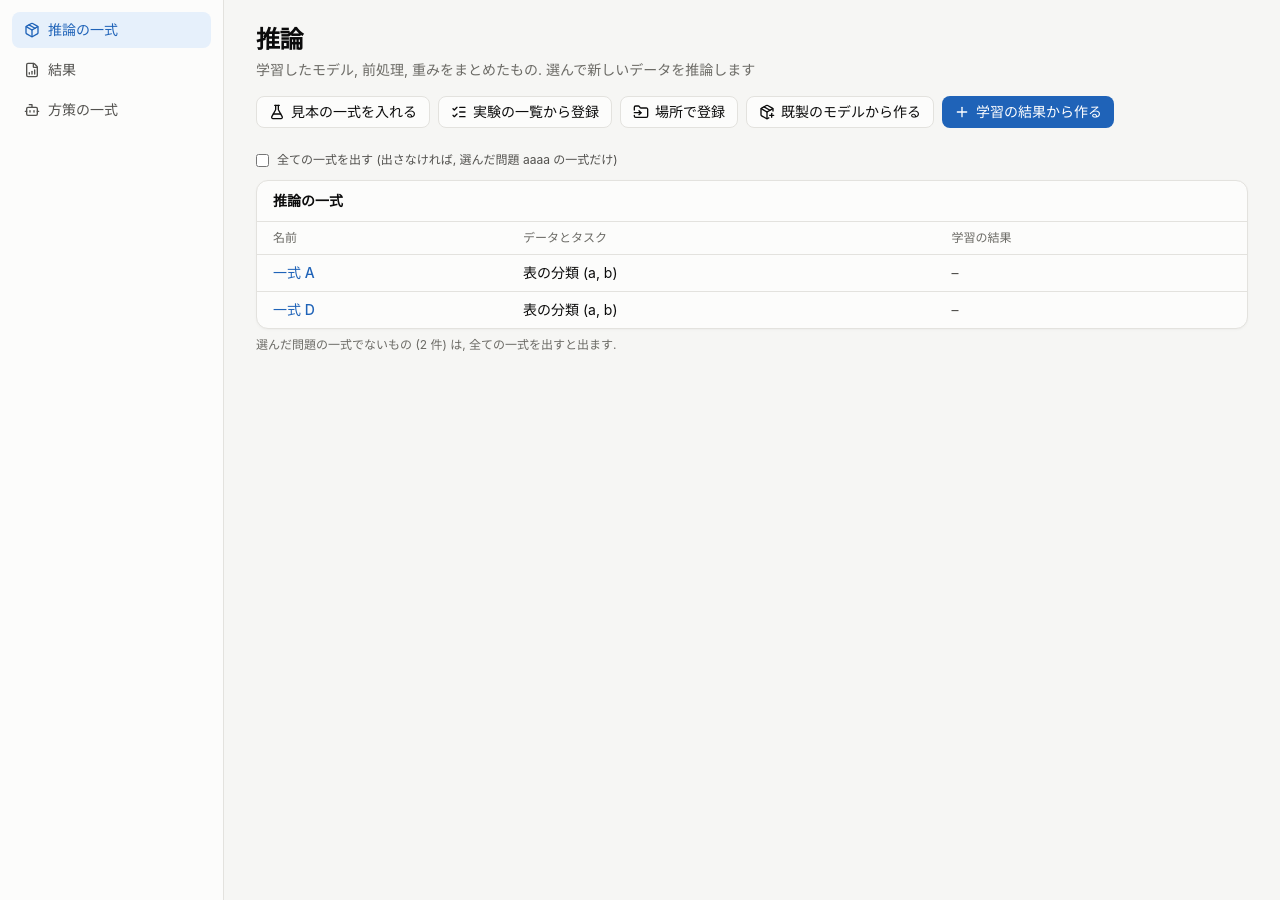
Test: StageApp › project を渡すと, 一式の一覧をその問題をつないだ一式に絞り, 外せる
Later steps or results of the test are not shown.
Expected: the link "一式 A" is shown, x1=273 y1=264 x2=315 y2=281
Expected: the link "一式 D" is shown, x1=273 y1=301 x2=315 y2=318
Click the checkbox labelled "全ての一式を出す (出さなければ, 選んだ問題 aaaa の一式だけ)" at [262, 160], box x1=256 y1=154 x2=269 y2=166
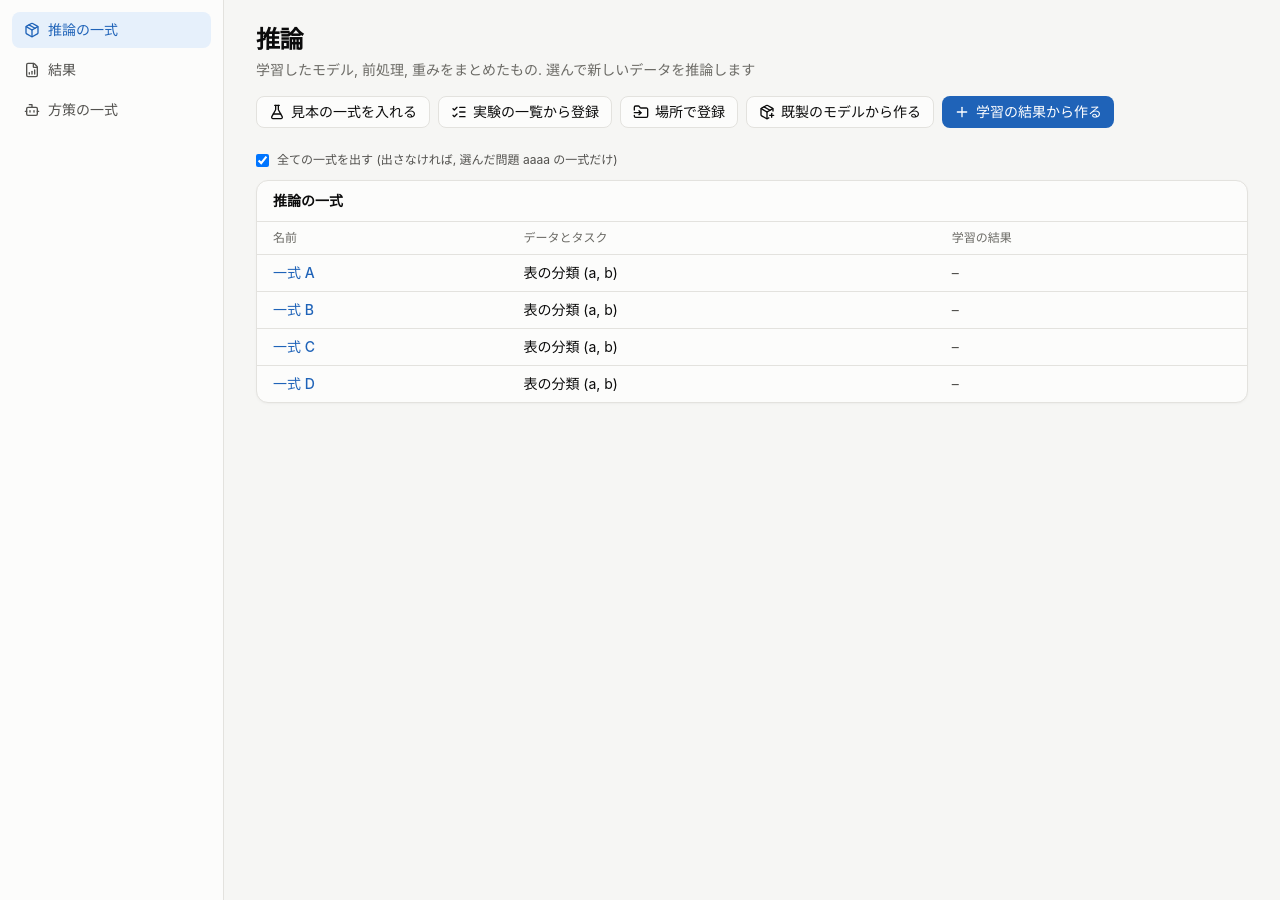
Now the link "一式 B" is shown, box x1=273 y1=301 x2=314 y2=318
Now the link "一式 C" is shown, box x1=273 y1=338 x2=315 y2=355
